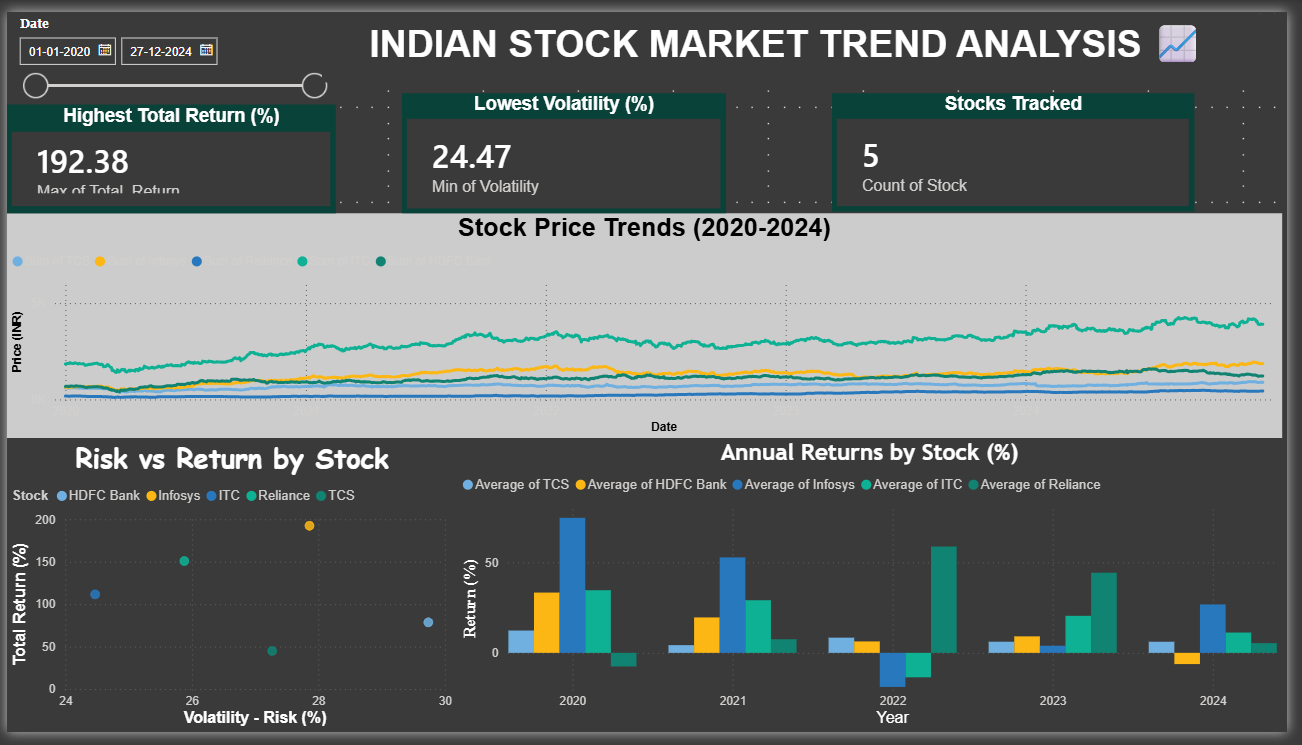

What the dashboard file says about the page in this screenshot:
{"tool":"powerbi","page":{"name":"Overview","canvas":[1280,720],"ordinal":0},"visuals":[{"type":"lineChart","title":"Stock Price Trends (2020-2024)","fields":{"Category":["stock_prices_clean.Date"],"Y":["Sum(stock_prices_clean.TCS)","Sum(stock_prices_clean.Infosys)","Sum(stock_prices_clean.Reliance)","Sum(stock_prices_clean.ITC)","Sum(stock_prices_clean.HDFC Bank)"]},"box":[0,201.7,1275,225],"z":0},{"type":"slicer","fields":{"Values":["stock_prices_clean.Date"]},"box":[0,0,328.8,92.5],"z":1000},{"type":"scatterChart","title":"Risk vs Return by Stock","fields":{"Category":["risk_return.Stock"],"X":["Sum(risk_return.Volatility)"],"Y":["Sum(risk_return.Total_Return)"],"Series":["risk_return.Stock"]},"box":[0,426.7,450,293.3],"z":2000},{"type":"clusteredColumnChart","title":"Annual Returns by Stock (%)","fields":{"Category":["annual_returns.Year"],"Y":["Avg(annual_returns.TCS)","Avg(annual_returns.HDFC Bank)","Avg(annual_returns.Infosys)","Avg(annual_returns.ITC)","Avg(annual_returns.Reliance)"]},"box":[450,426.7,825,293.3],"z":3000},{"type":"cardVisual","title":"Highest Total Return (%)","fields":{"Data":["Max(risk_return.Total_Return)"]},"box":[0,92.5,328.8,108.8],"z":4000},{"type":"cardVisual","title":"Lowest Volatility (%)","fields":{"Data":["Min(risk_return.Volatility)"]},"box":[395,81.2,323.8,120],"z":5000},{"type":"cardVisual","title":"Stocks Tracked","fields":{"Data":["CountNonNull(risk_return.Stock)"]},"box":[825,81.2,362.5,118.8],"z":6000},{"type":"textbox","box":[315,0,928.8,70],"z":7000}]}

Visuals, with their boxes in screenshot pixels (x1, y1, x2, y2), scaled from the page's 1280x720 canvas onto the 1302x745 screenshot:
"Stock Price Trends (2020-2024)" lineChart: <box>0,209,1297,442</box>
slicer - stock_prices_clean.Date: <box>0,0,334,96</box>
"Risk vs Return by Stock" scatterChart: <box>0,442,458,744</box>
"Annual Returns by Stock (%)" clusteredColumnChart: <box>458,442,1297,744</box>
"Highest Total Return (%)" cardVisual: <box>0,96,334,208</box>
"Lowest Volatility (%)" cardVisual: <box>402,84,731,208</box>
"Stocks Tracked" cardVisual: <box>839,84,1208,207</box>
textbox: <box>320,0,1265,72</box>
